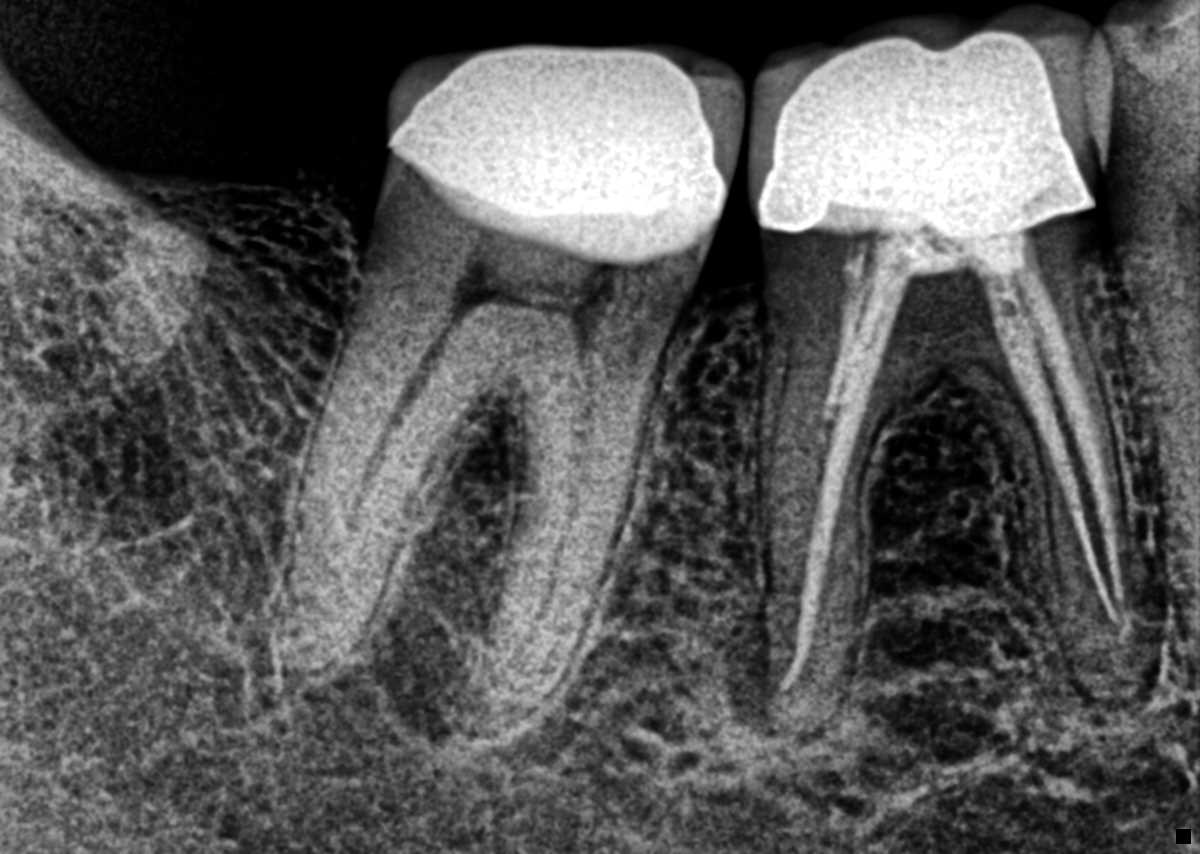Apical Lesion: (722, 597, 778, 739), (1049, 664, 1159, 729)
Distal Root: (276, 271, 492, 676), (756, 268, 908, 734), (346, 333, 449, 547)
Mesial Canal: (467, 362, 603, 707)
Mesial Root: (448, 339, 669, 733), (967, 279, 1160, 702)
Root Canal Filling: (780, 305, 888, 699), (995, 295, 1121, 626)
